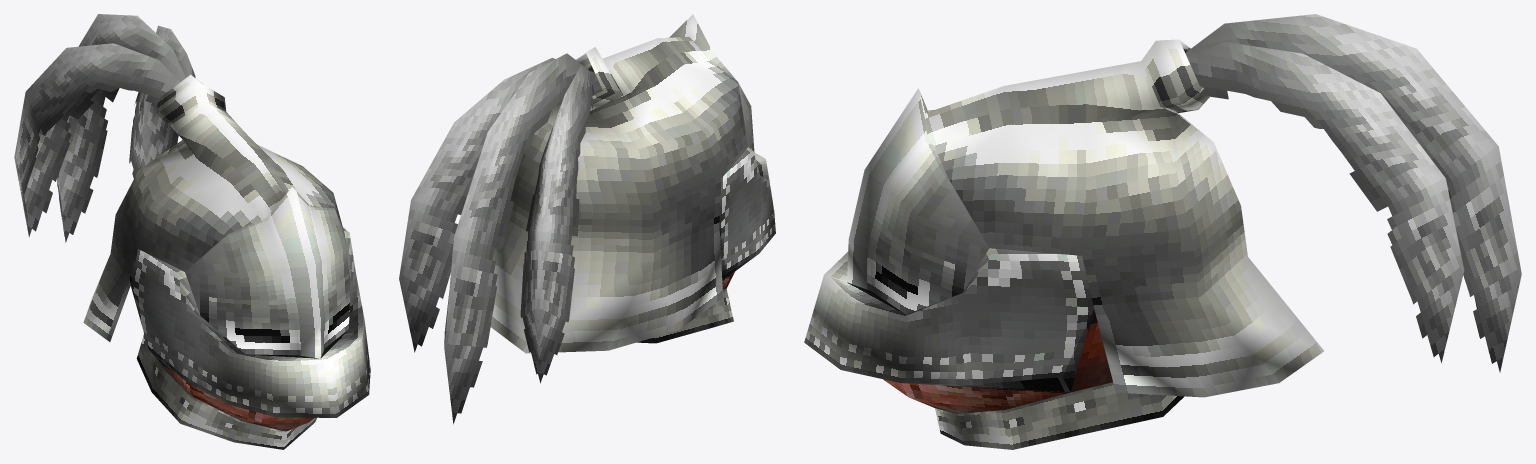
Rendered from m_helmet259.obj.
3 views of the same model, side by side, from view 1: azimuth 30°, elevation 25°; view 2: azimuth 150°, elevation 25°; view 3: azimuth 270°, elevation 25° (orthographic). The views are drawn at different scales.
Parts seen in each view (by area): view 1: mesh00, mesh02, mesh01; view 2: mesh00, mesh02, mesh01; view 3: mesh00, mesh02, mesh01.
Part boxes in pixels (left/top/right/bottom): mesh00: left=83, top=74, right=370, bottom=449; mesh02: left=14, top=25, right=195, bottom=237; mesh01: left=57, top=14, right=185, bottom=242; mesh00: left=490, top=14, right=775, bottom=353; mesh02: left=399, top=58, right=601, bottom=383; mesh01: left=444, top=53, right=602, bottom=424; mesh00: left=804, top=39, right=1323, bottom=449; mesh02: left=1187, top=35, right=1464, bottom=363; mesh01: left=1185, top=14, right=1521, bottom=372.
Bounding box in the file's own units: 21.26 × 31.57 × 48.92.
Materials: 3 (3 with a texture image).
